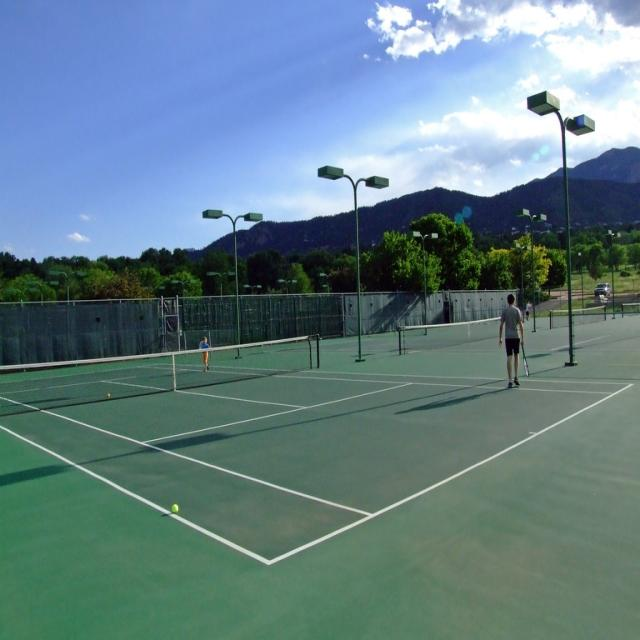ball: (170, 503, 180, 513), (106, 392, 111, 398)
